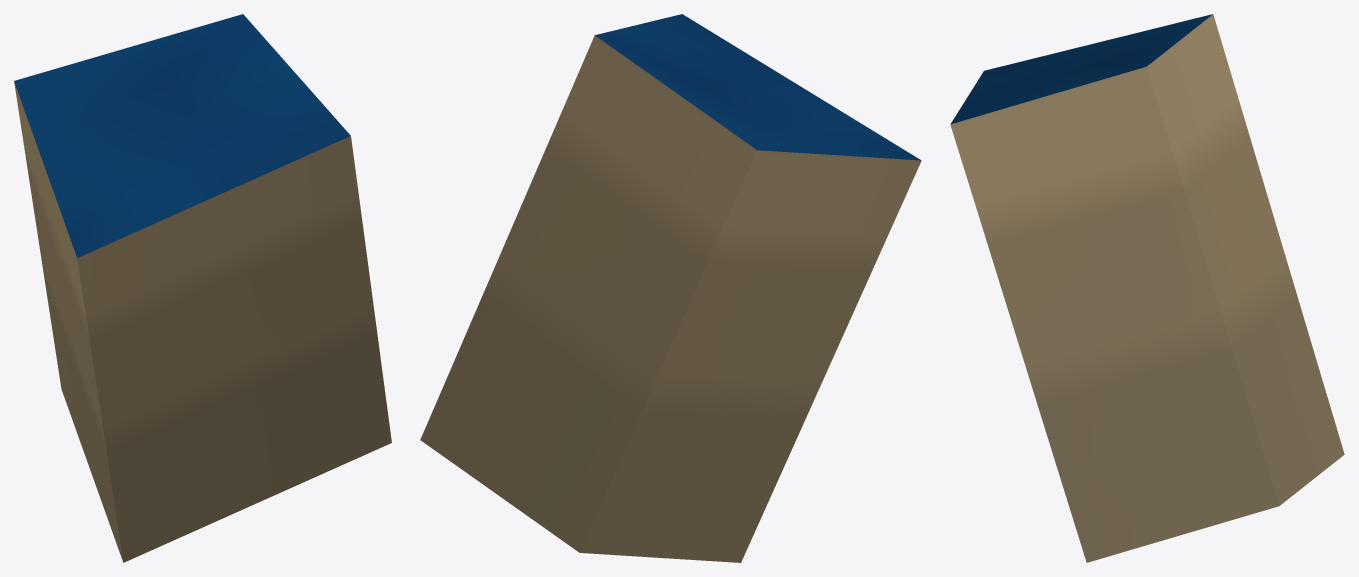
The model's file is 0607_Vanuatu.glb.
3 renders of one model, left to right at view 1: azimuth 30°, elevation 25°; view 2: azimuth 150°, elevation 25°; view 3: azimuth 270°, elevation 25°, orthographic.
Visible parts, largest first — view 1: part_0; view 2: part_0; view 3: part_0.
Part boxes in pixels (x1,y1,x2,y2): part_0: (14,14,391,562); part_0: (420,14,921,562); part_0: (950,14,1344,562).
Bounding box in the file's own units: 0.183 × 0.2422 × 0.1701.
Materials: 1 (1 with a texture image).
